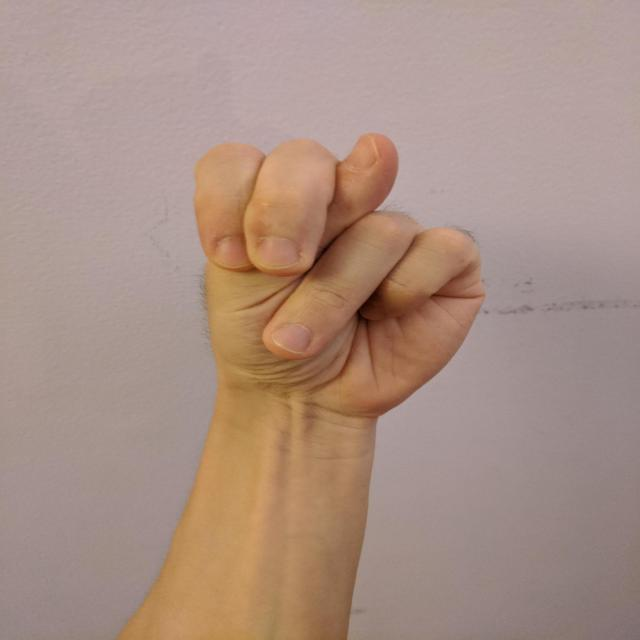N: (186, 126, 492, 423)
